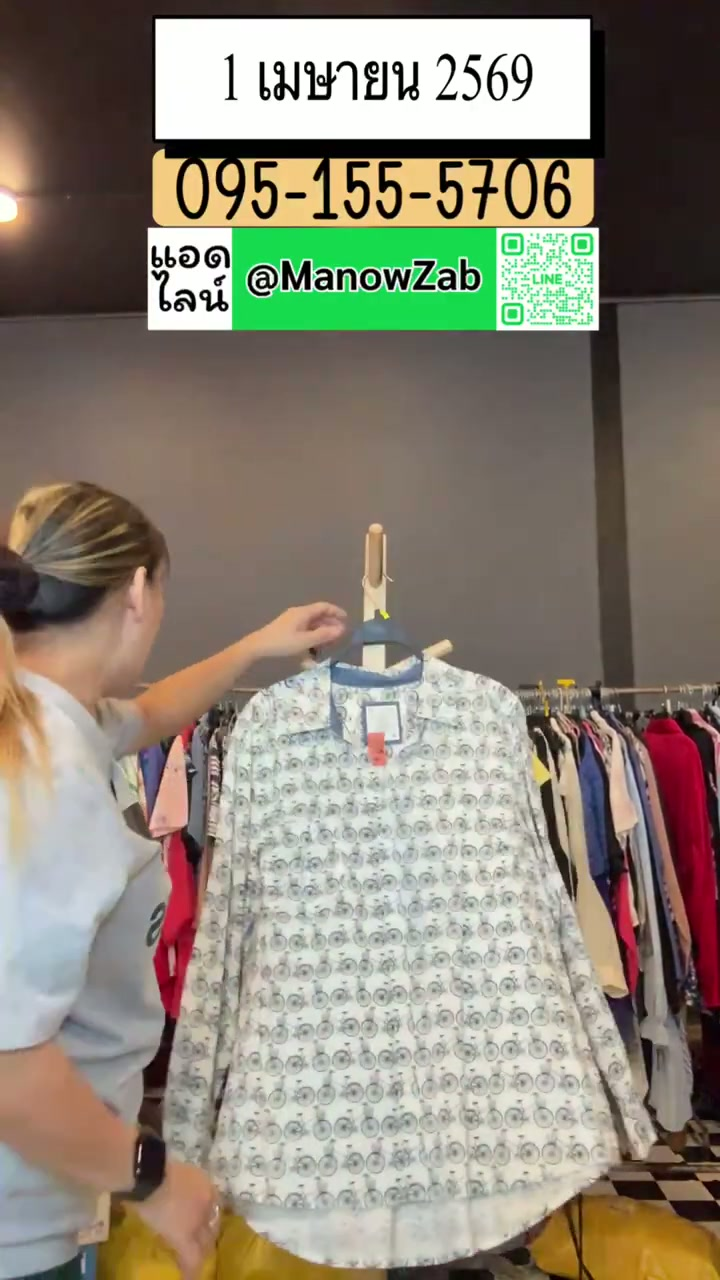display_shirt: (166, 656, 653, 1265)
